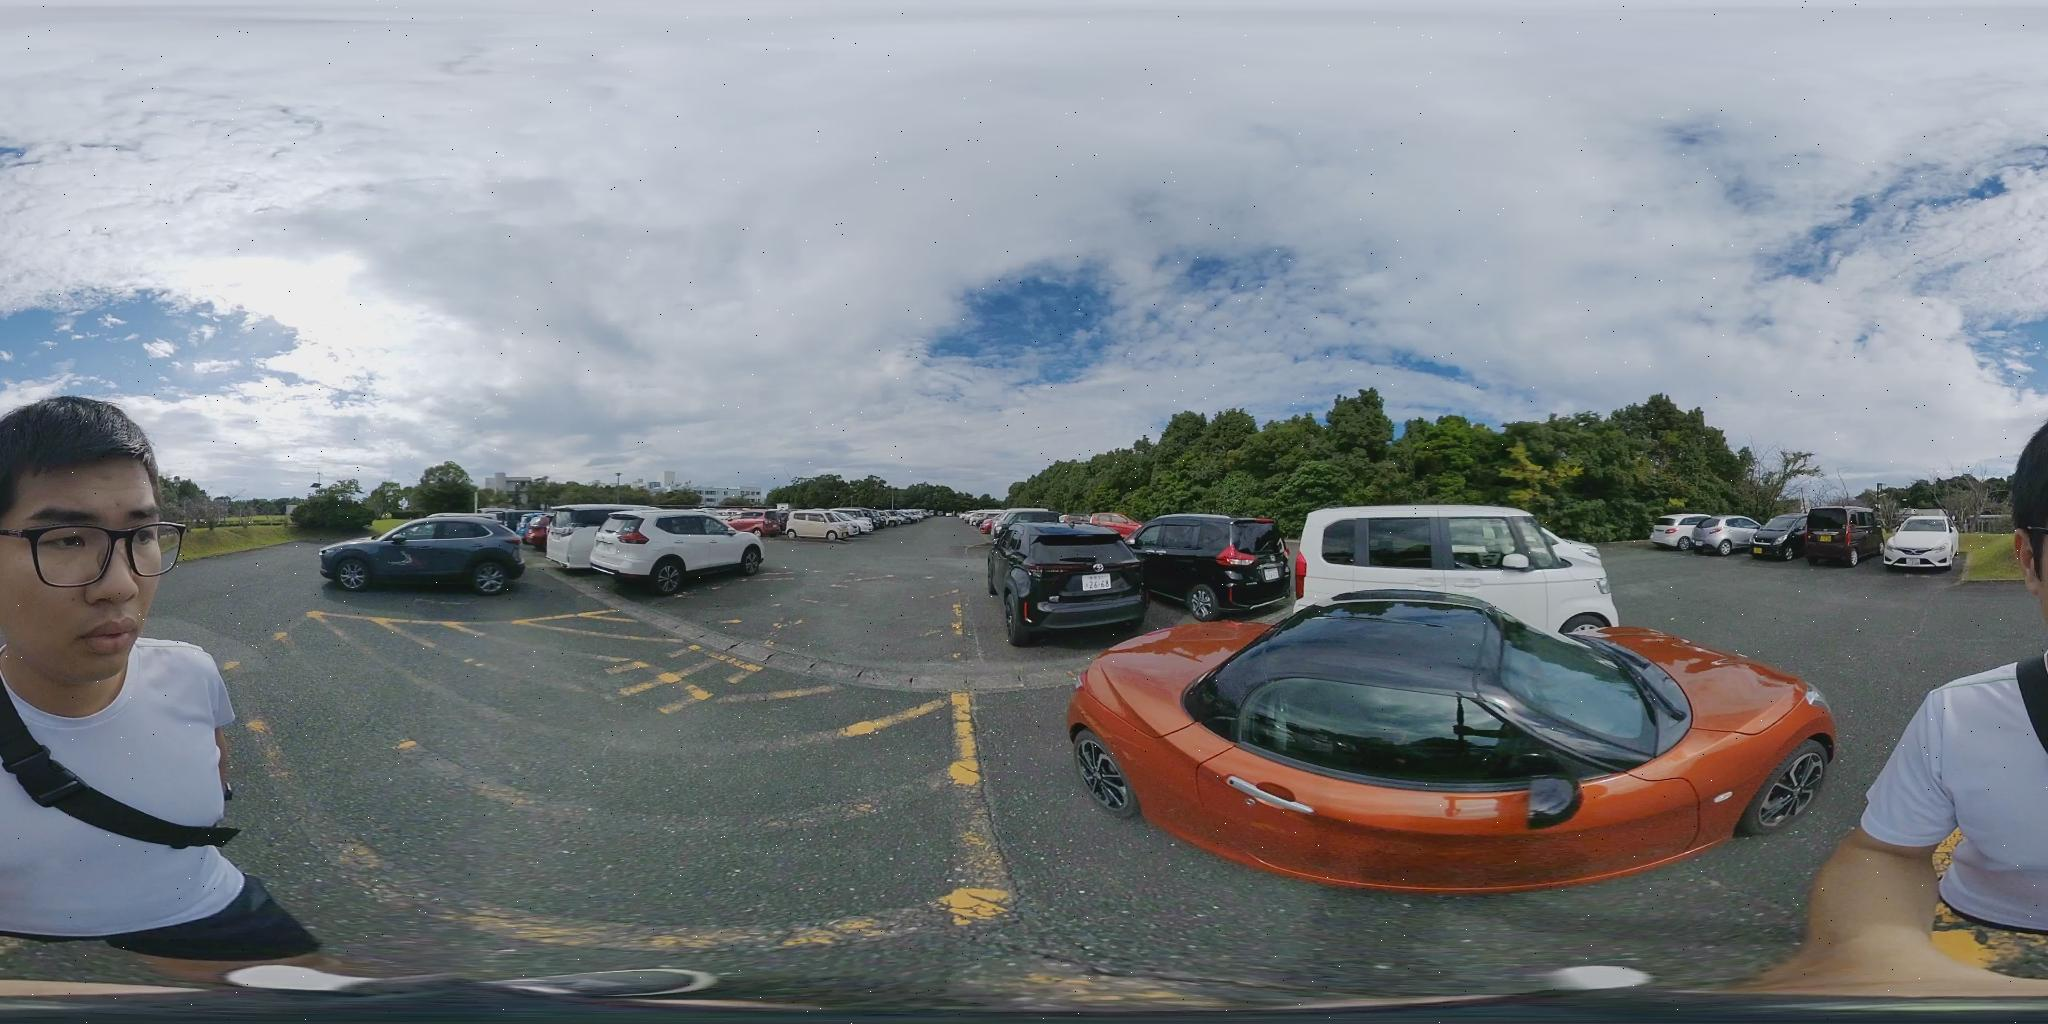car: (1055, 592, 1851, 896), (1298, 503, 1624, 635), (568, 511, 772, 596), (993, 521, 1138, 637), (319, 519, 536, 594), (1752, 508, 1876, 563), (528, 504, 650, 554), (1697, 517, 1804, 559), (1655, 513, 1765, 551), (726, 508, 863, 538), (457, 509, 556, 543), (513, 512, 579, 558), (789, 512, 871, 542), (987, 511, 1072, 539), (1650, 517, 1712, 551), (503, 513, 559, 549), (724, 511, 789, 537), (781, 508, 842, 534), (990, 507, 1062, 529), (827, 511, 879, 539), (862, 508, 914, 528), (861, 509, 897, 534), (970, 511, 1007, 532), (882, 508, 925, 525), (900, 508, 934, 522)
